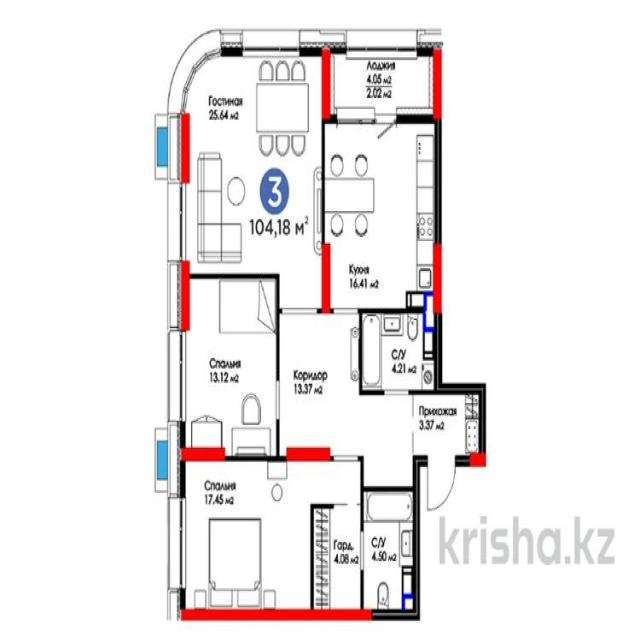balcony: (327, 47, 435, 121)
bathroom: (361, 487, 416, 618), (362, 311, 436, 392)
hallway: (278, 309, 360, 458), (361, 393, 485, 460)
kitchen: (325, 122, 438, 306)
living_room: (184, 48, 325, 276), (184, 458, 310, 616), (184, 280, 276, 458)
other: (312, 507, 361, 618)
